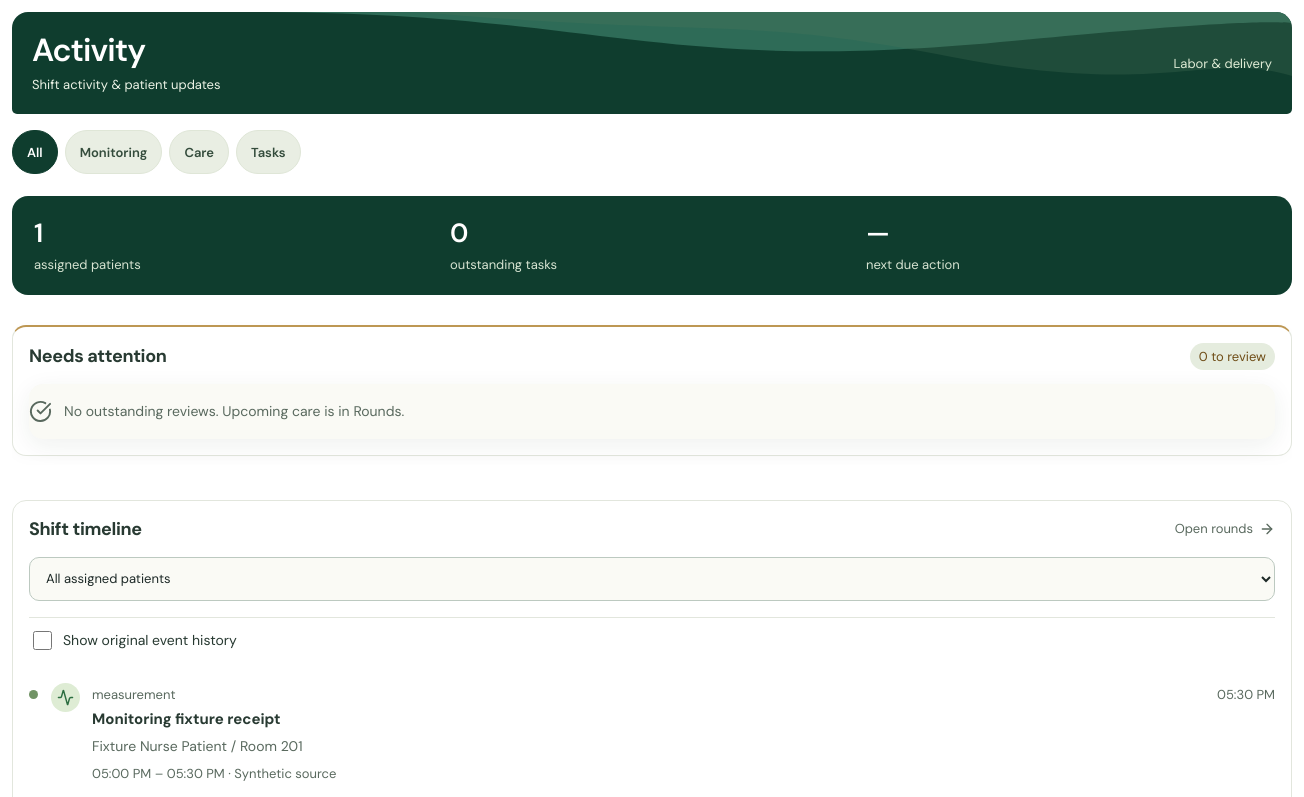
Scenario: connects the mockup's activity pills to real backend summaries
The width and height of the screenshot is (1304, 797).
expect the text "Shift activity & patient updates" is shown: met, box x1=32 y1=75 x2=220 y2=94
Click the button "Care".
click(199, 152)  # box x1=169 y1=130 x2=229 y2=174
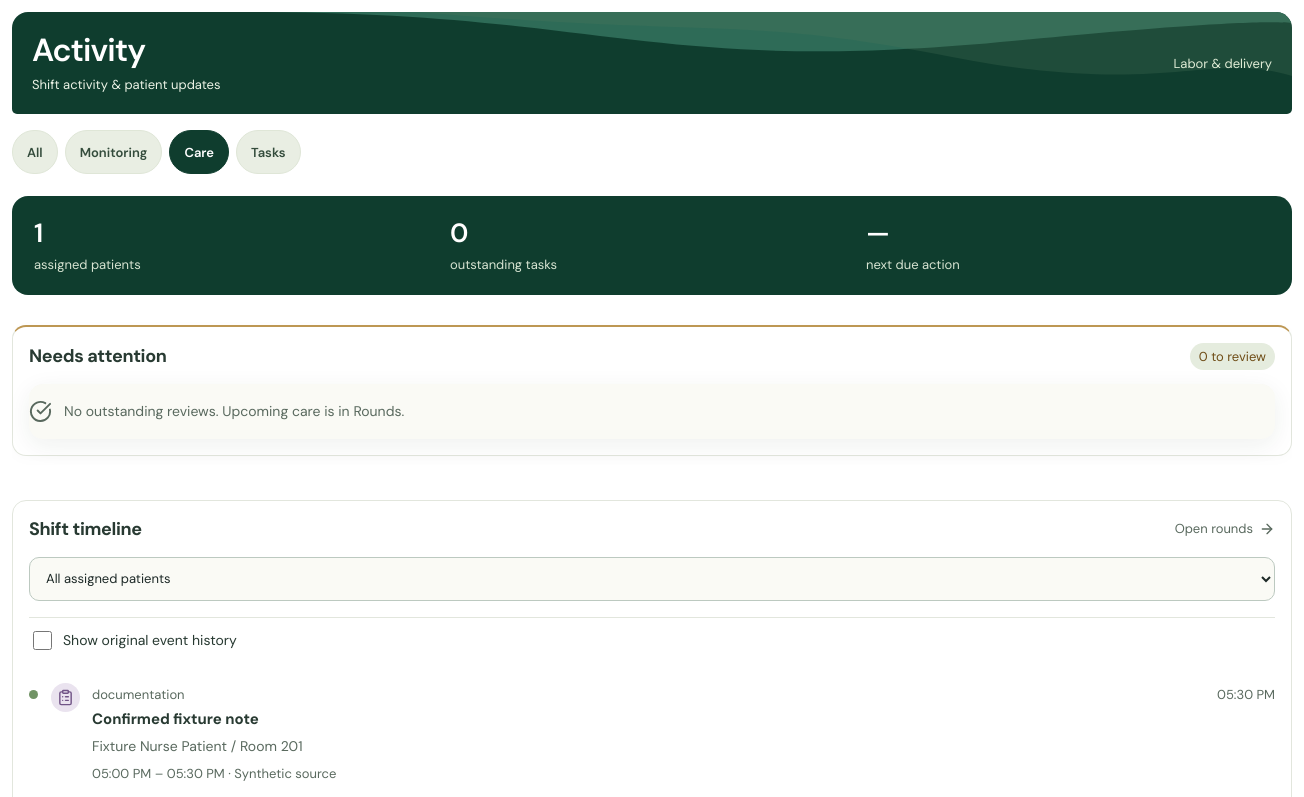
expect the text "Confirmed fixture note" is shown: met, box x1=92 y1=710 x2=259 y2=730
expect the text "Monitoring fixture receipt" is gone: met
Click the button "All".
click(35, 152)  # box x1=12 y1=130 x2=58 y2=174
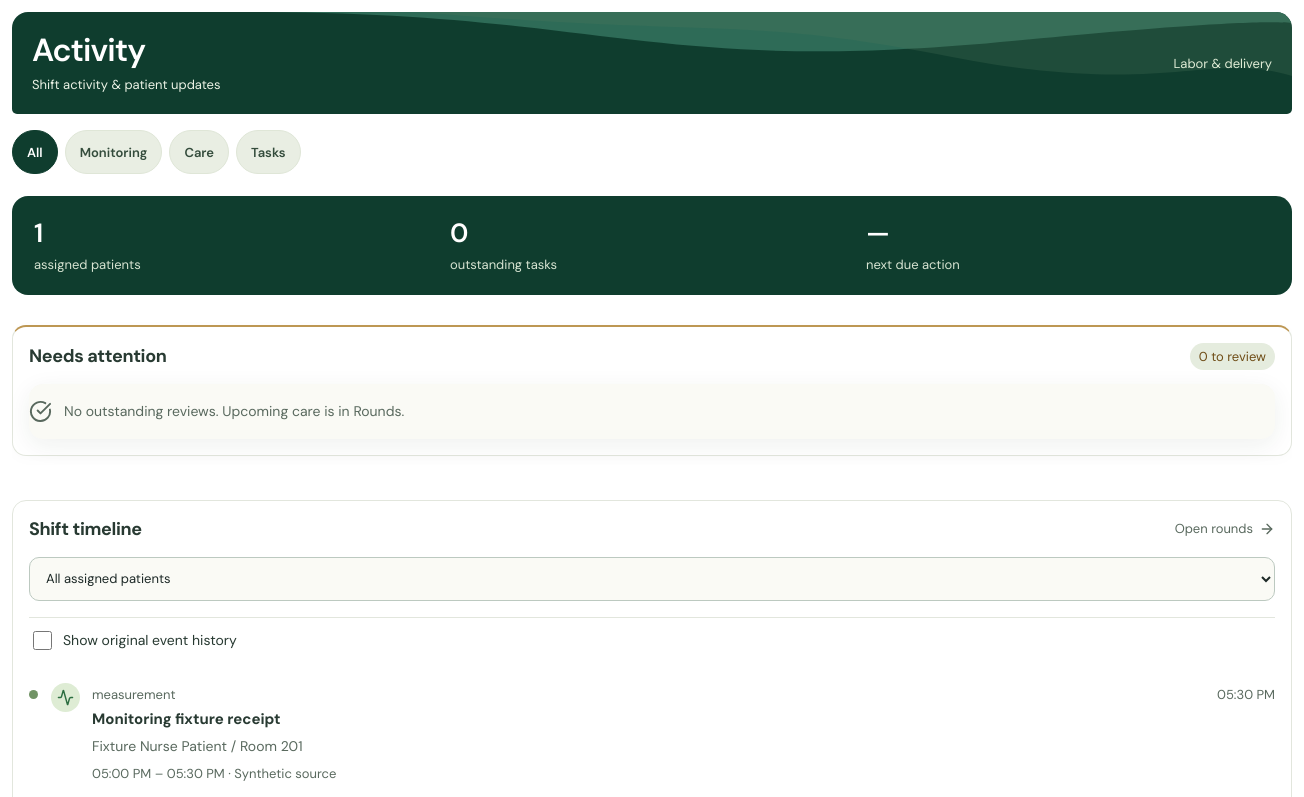
expect the text "Monitoring fixture receipt" is shown: met, box x1=92 y1=710 x2=281 y2=730
